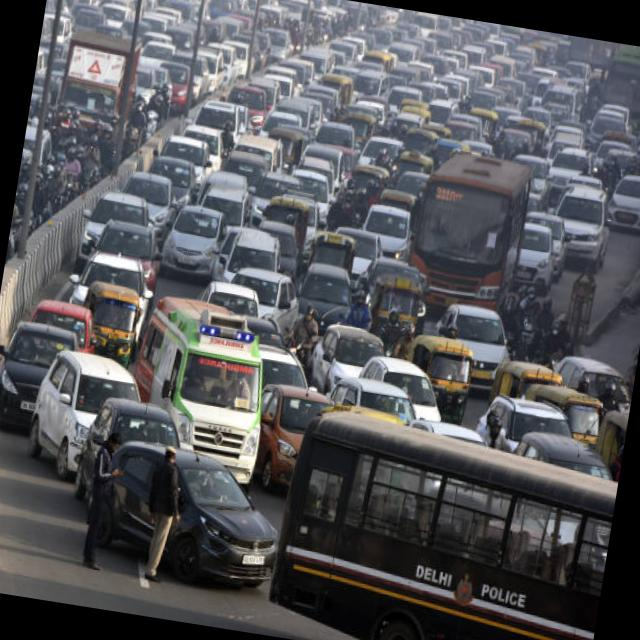ambulance: (130, 298, 280, 484), (194, 312, 262, 352), (193, 349, 260, 382)
